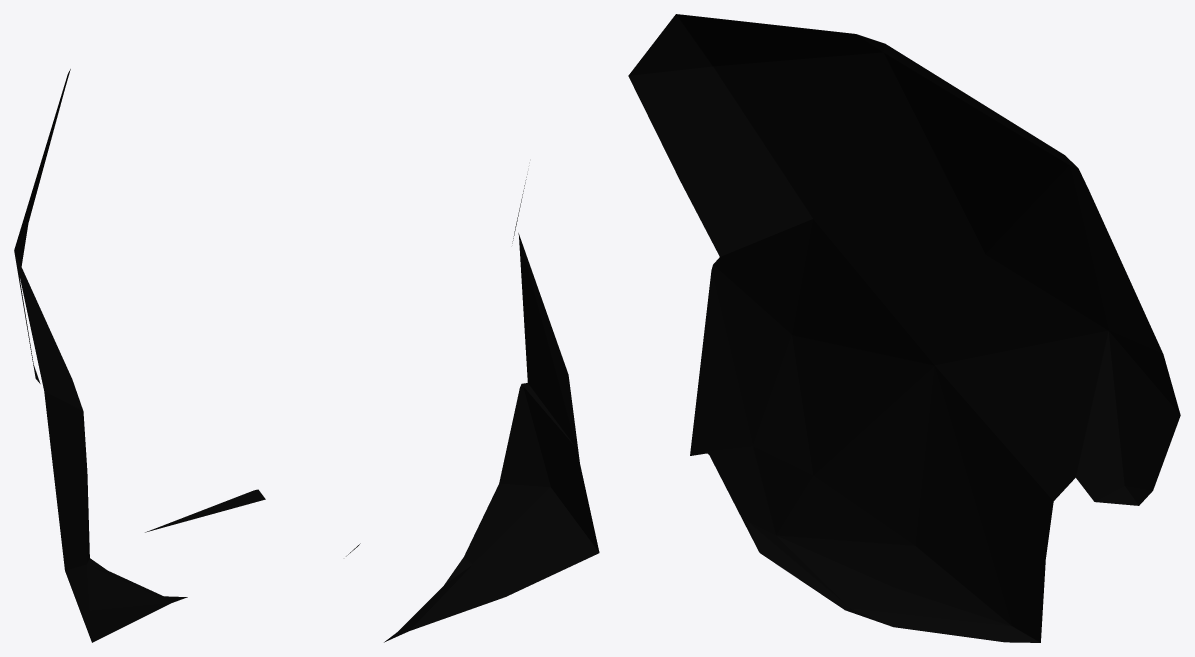
3 renders of one model, left to right at view 1: azimuth 30°, elevation 25°; view 2: azimuth 150°, elevation 25°; view 3: azimuth 270°, elevation 25°, orthographic. The views are drawn at different scales.
Bounding box in the file's own units: 0.1375 × 0.6193 × 0.493.
1 material, 1 textured.
